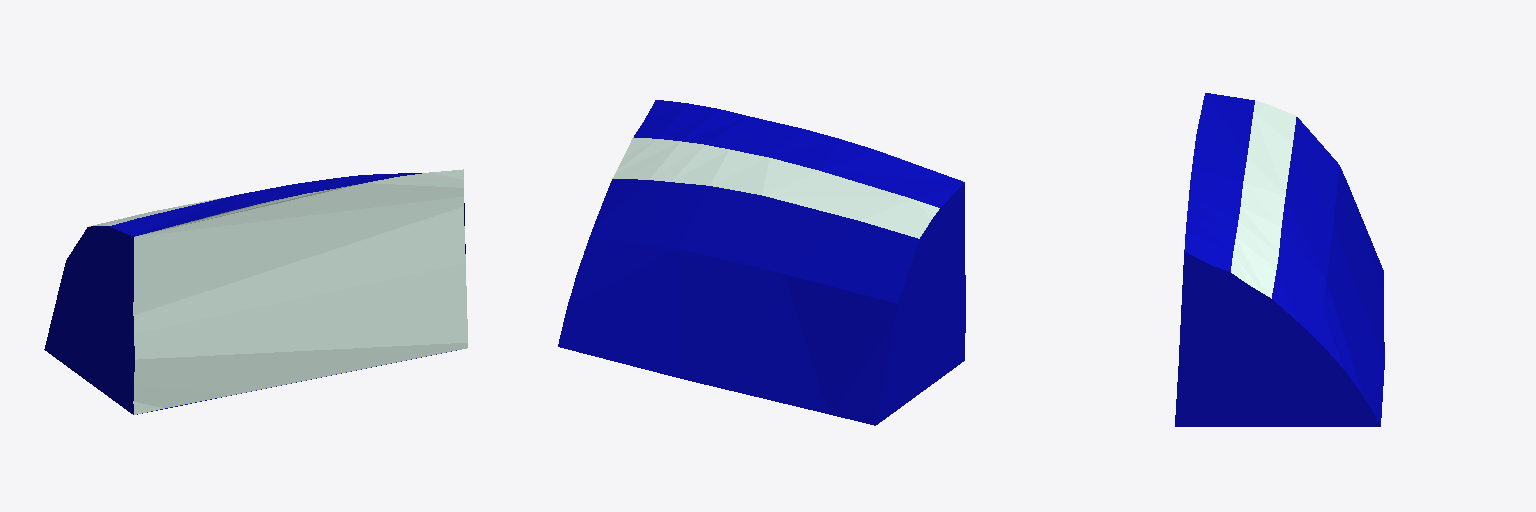
3 views of the same model, side by side, from view 1: azimuth 30°, elevation 25°; view 2: azimuth 150°, elevation 25°; view 3: azimuth 270°, elevation 25° (orthographic).
Parts seen in each view (by area): view 1: base_link_Cabin_Plane.001_Windows.003; view 2: base_link_Cabin_Plane.001_Windows.003; view 3: base_link_Cabin_Plane.001_Windows.003.
Boxes of the visible parts, <box> form: base_link_Cabin_Plane.001_Windows.003: <box>44,169,467,414</box>; base_link_Cabin_Plane.001_Windows.003: <box>558,100,965,425</box>; base_link_Cabin_Plane.001_Windows.003: <box>1175,93,1384,426</box>.
Bounding box in the file's own units: 1.8 × 1 × 1.02.